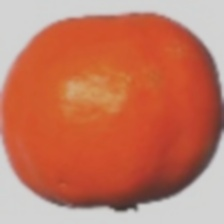tangerine: (20, 51, 194, 194)
